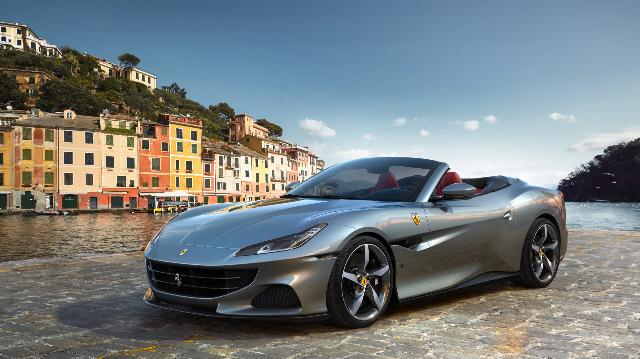ferrari: (142, 157, 568, 329)
